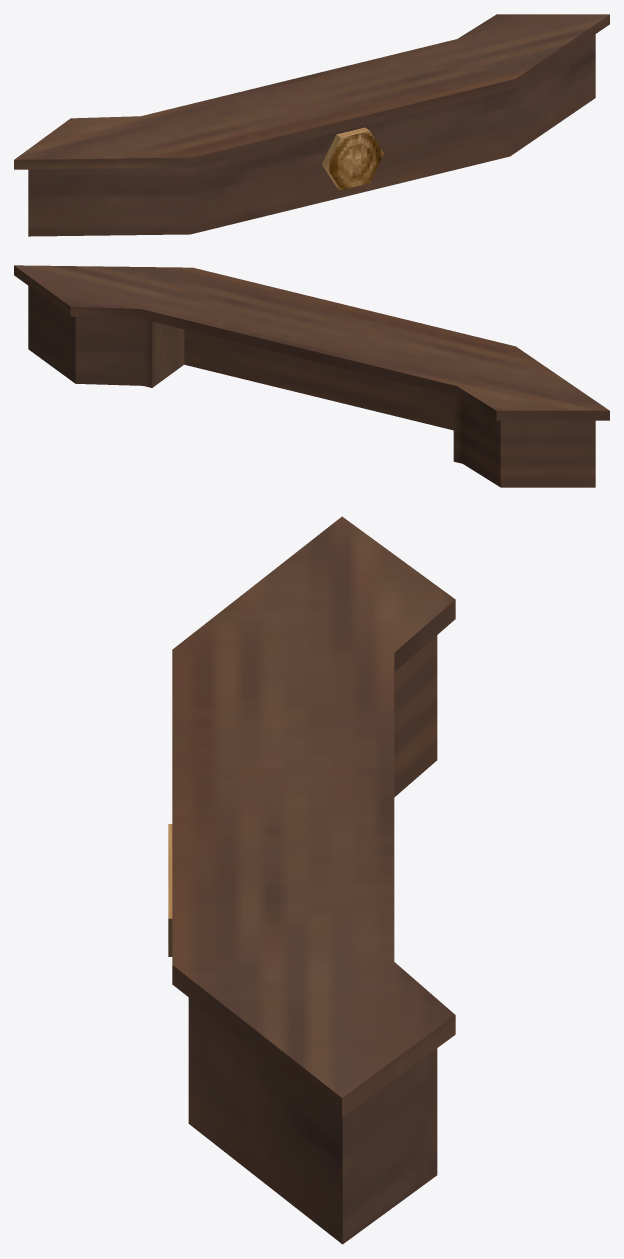
Rendered from desk.glb.
3 renders of one model, top to bottom at view 1: azimuth 30°, elevation 25°; view 2: azimuth 150°, elevation 25°; view 3: azimuth 270°, elevation 25°, orthographic. The views are drawn at different scales.
Visible parts, largest first — view 1: front_desk1; view 2: front_desk1; view 3: front_desk1.
Boxes of the visible parts, left/top/right/bottom form: front_desk1: left=14, top=14, right=609, bottom=236; front_desk1: left=14, top=265, right=609, bottom=487; front_desk1: left=168, top=516, right=455, bottom=1244.
Bounding box in the file's own units: 0.5129 × 0.066 × 0.107.
Materials: 2 (2 with a texture image).
